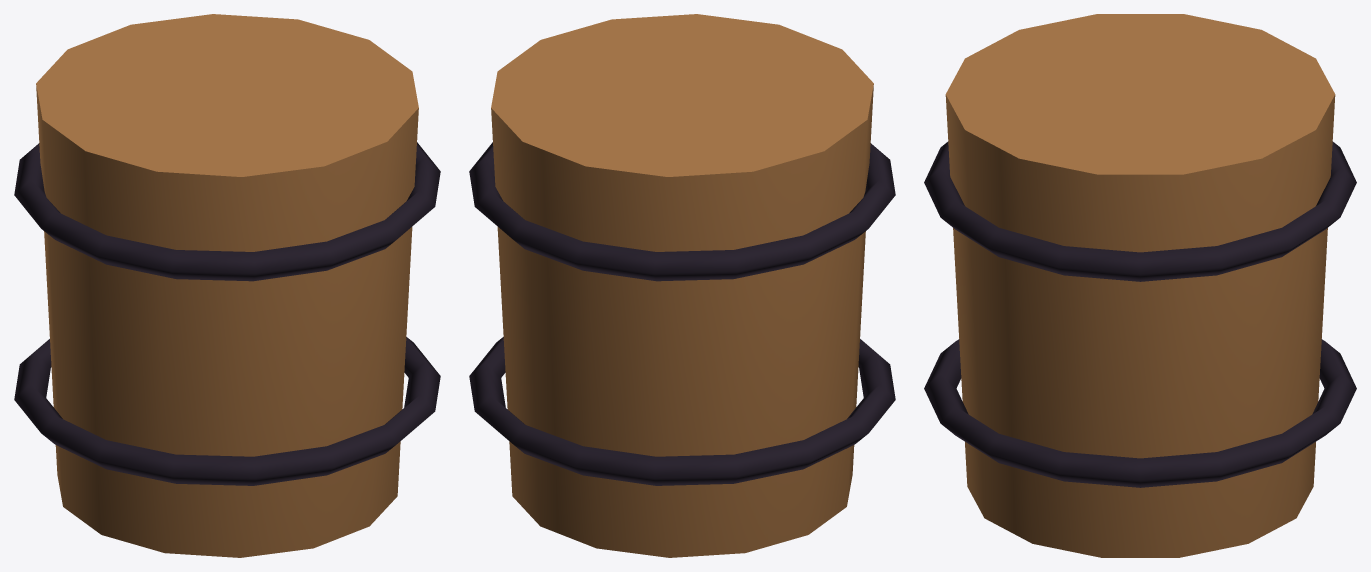
Rendered from barrel.glb.
3 renders of one model, left to right at view 1: azimuth 30°, elevation 25°; view 2: azimuth 150°, elevation 25°; view 3: azimuth 270°, elevation 25°, orthographic.
Parts seen in each view (by area): view 1: barrel; view 2: barrel; view 3: barrel.
Part boxes in pixels (x1=…): barrel: x1=14, y1=14, x2=440, y2=557; barrel: x1=469, y1=14, x2=895, y2=557; barrel: x1=924, y1=14, x2=1356, y2=557.
Bounding box in the file's own units: 0.8 × 0.8 × 0.8.
